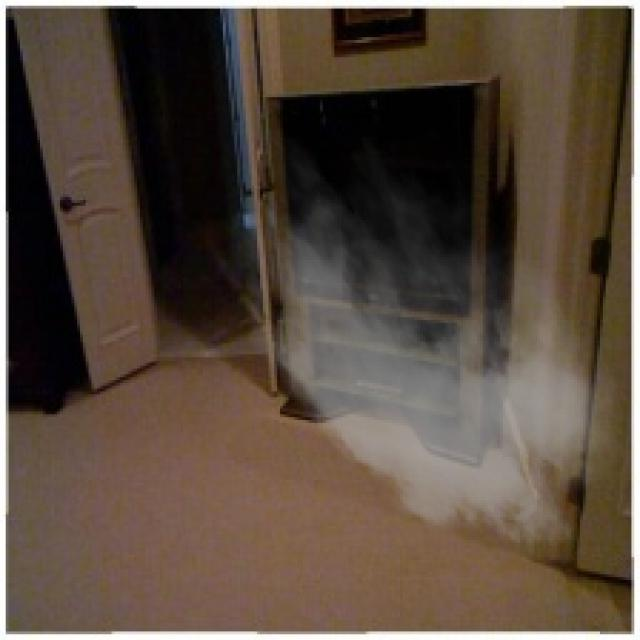smoke: (220, 137, 637, 563)
